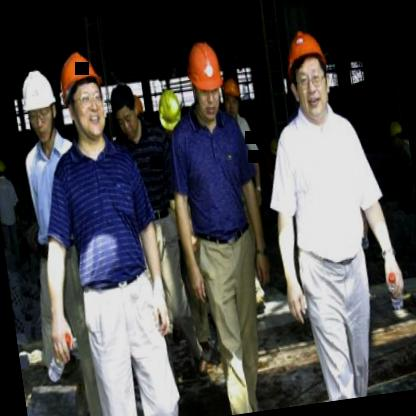head: (106, 80, 144, 146)
helmet: (280, 22, 336, 122), (54, 46, 110, 146), (181, 38, 227, 122), (15, 64, 62, 146), (218, 67, 247, 124), (155, 86, 184, 134), (386, 116, 406, 153), (0, 156, 8, 185)
